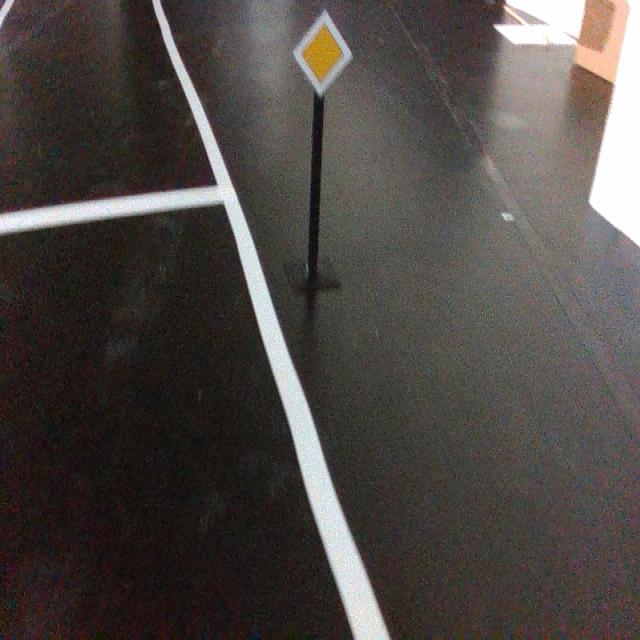priority-sign: (291, 8, 354, 101)
